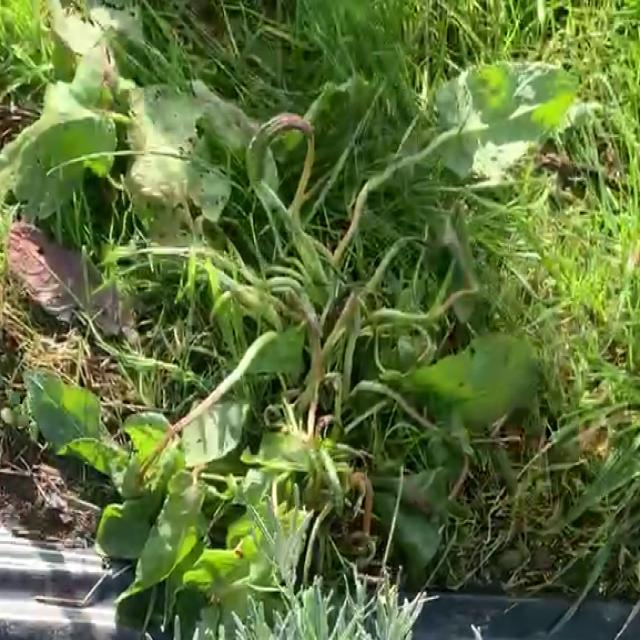organic waste: (58, 0, 613, 640)
